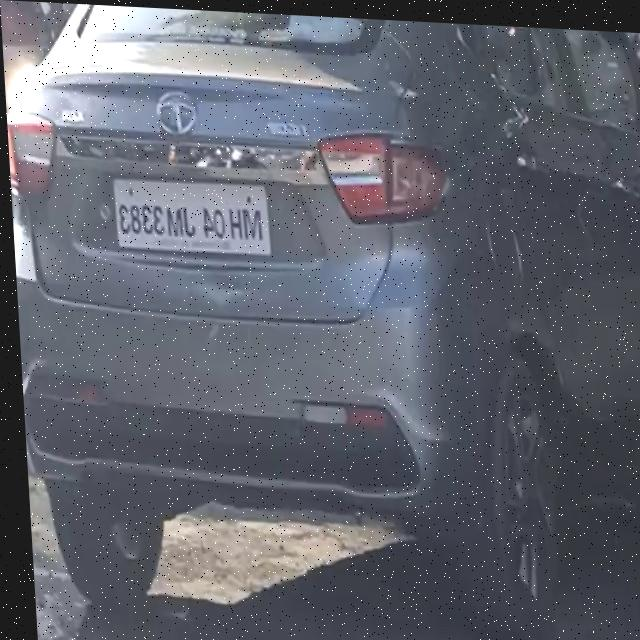plate: (109, 172, 270, 255)
